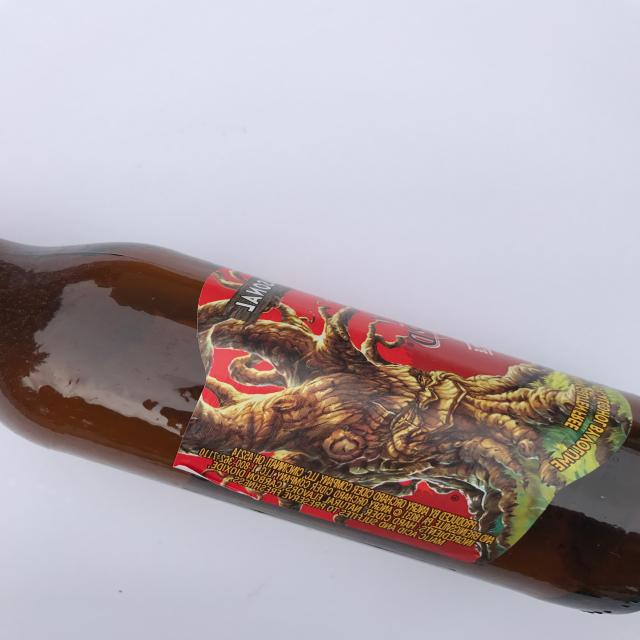glass: (0, 238, 640, 613)
